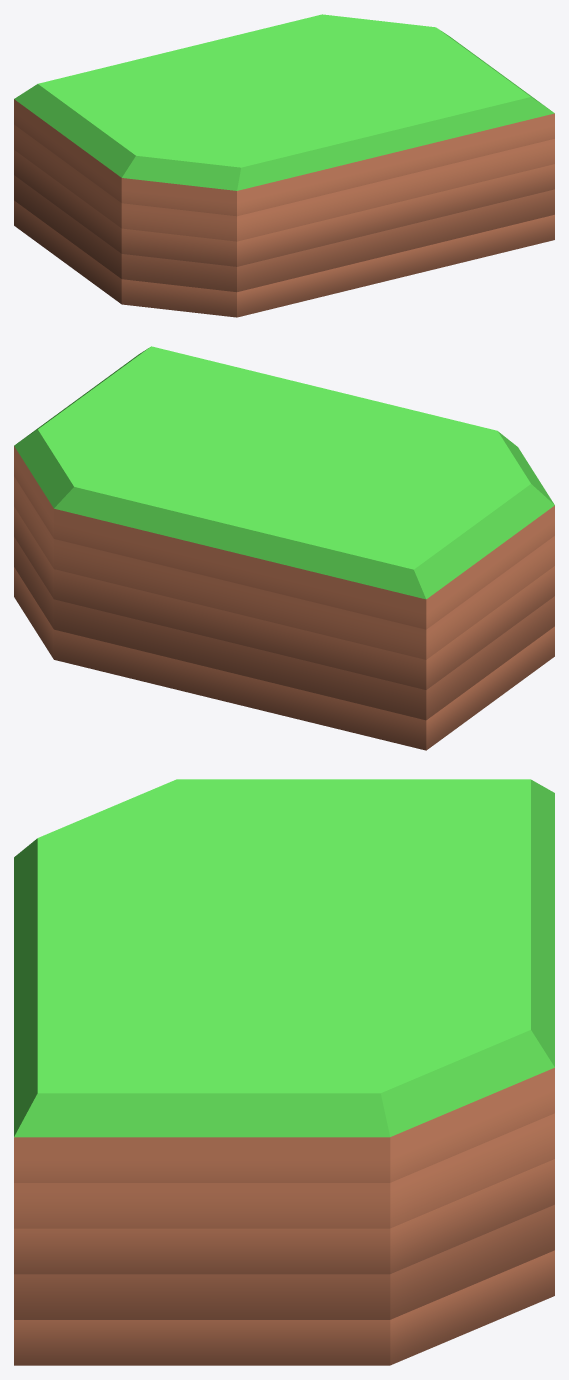
The model's file is StoneWall010.fbx.
3 views of the same model, one above another, from view 1: azimuth 30°, elevation 25°; view 2: azimuth 150°, elevation 25°; view 3: azimuth 270°, elevation 25° (orthographic). The views are drawn at different scales.
Visible parts, largest first — view 1: StoneWall010; view 2: StoneWall010; view 3: StoneWall010.
Boxes of the visible parts, <box> form: StoneWall010: <box>14,14,554,317</box>; StoneWall010: <box>14,346,554,750</box>; StoneWall010: <box>14,779,554,1365</box>.
Size of the model in its own units: 533 by 186 by 354.
